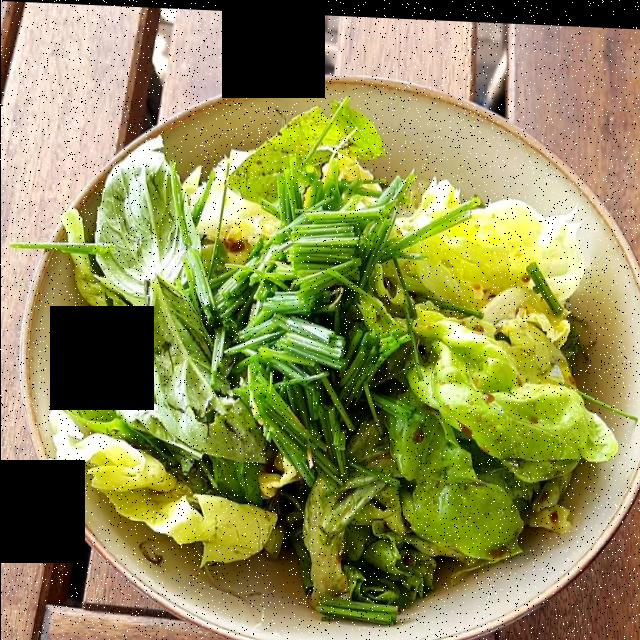chives: (188, 164, 476, 473)
salad-leaf-salad-green: (60, 116, 596, 609)
